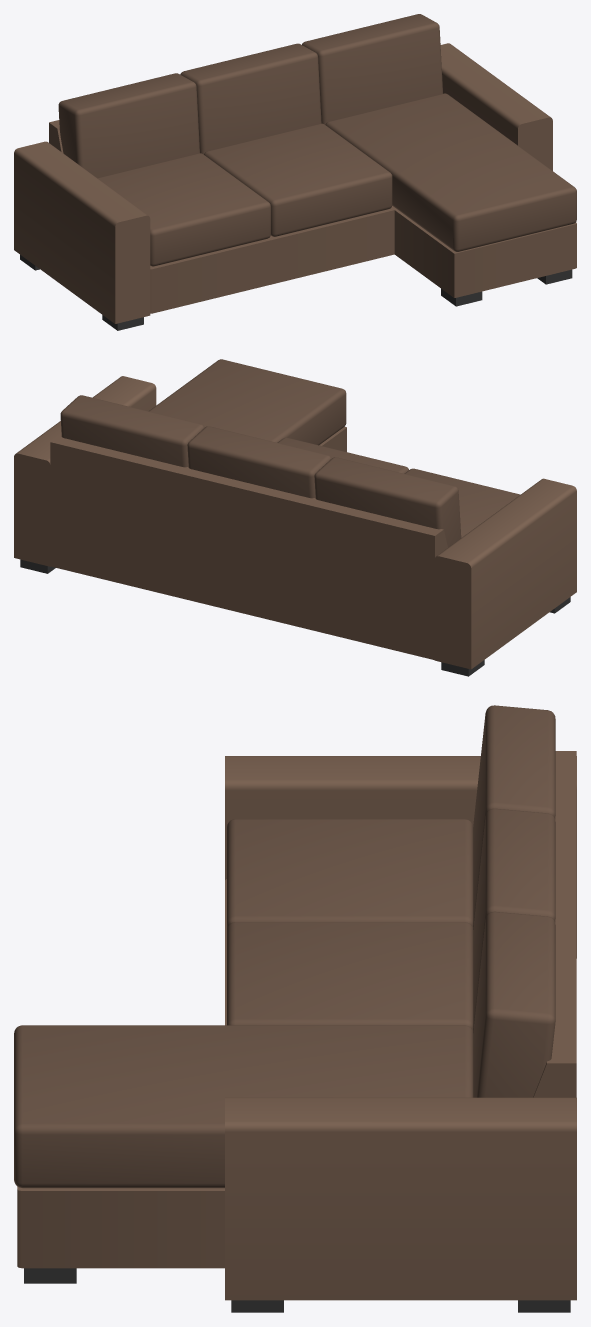
Rendered from Sofa3_C3.fbx.
The picture shows the model from 3 angles, top to bottom: view 1: azimuth 30°, elevation 25°; view 2: azimuth 150°, elevation 25°; view 3: azimuth 270°, elevation 25°; orthographic projection. The views are drawn at different scales.
Parts seen in each view (by area): view 1: Sofa3_C3; view 2: Sofa3_C3; view 3: Sofa3_C3.
Part boxes in pixels (x1,y1,x2,y2): Sofa3_C3: (14, 14, 576, 330); Sofa3_C3: (14, 359, 576, 676); Sofa3_C3: (14, 705, 576, 1312).
Size of the model in its own units: 250 by 85.61 by 160.
